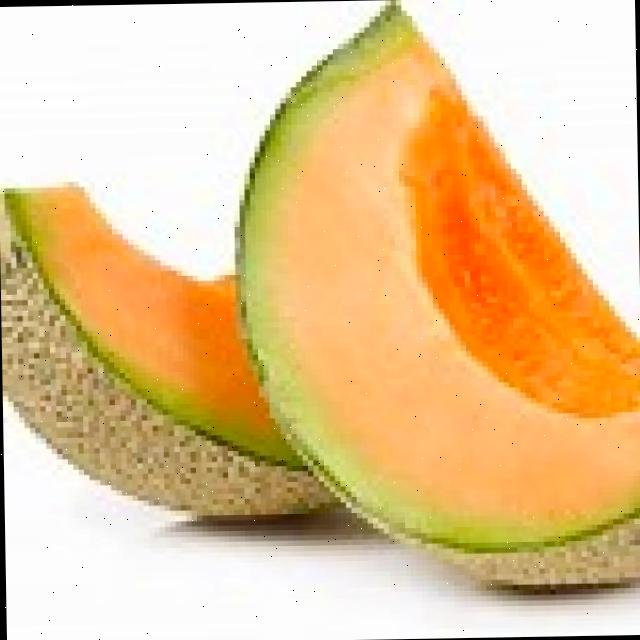Hami Melon: (240, 0, 640, 599)
